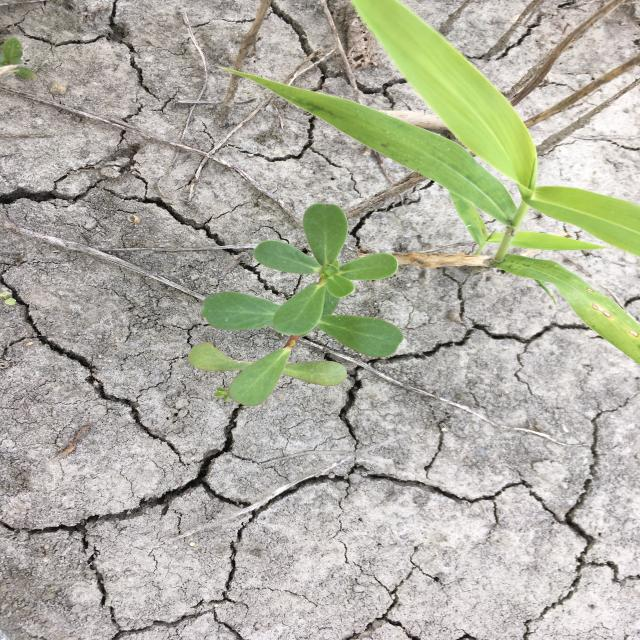Purslane: (186, 202, 406, 409)
